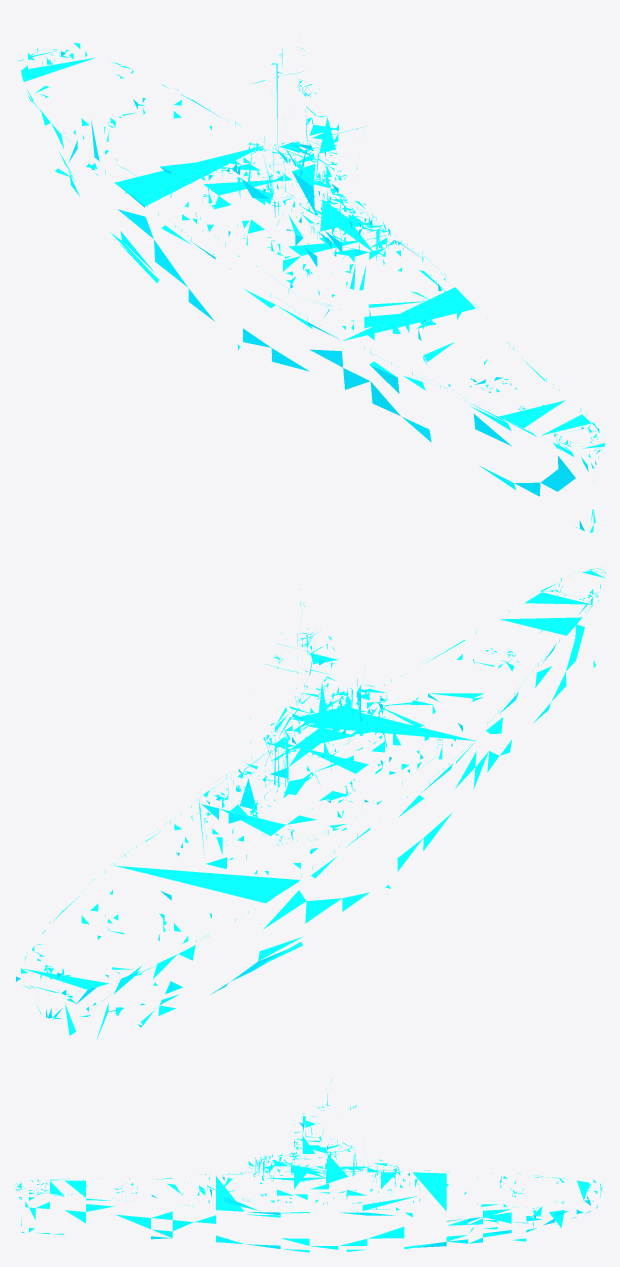
The model's file is Massachusetts.glb.
The picture shows the model from 3 angles, top to bottom: view 1: azimuth 30°, elevation 25°; view 2: azimuth 150°, elevation 25°; view 3: azimuth 270°, elevation 25°; orthographic projection. The views are drawn at different scales.
Bounding box in the file's own units: 2.21 × 4.2 × 13.89.
